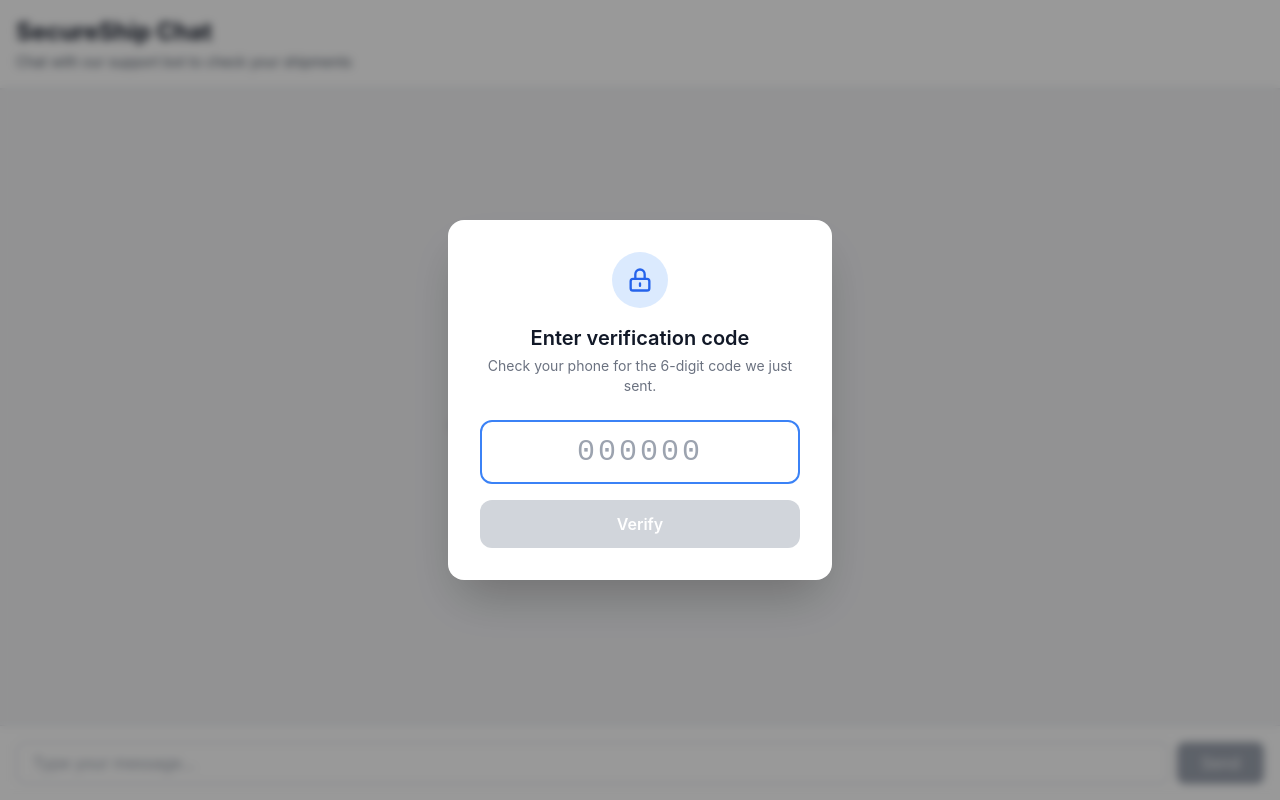
Test: ChatWindow › closes verification modal after max attempts lockout
Step 1. Type "999999" into the field with placeholder "000000" → [640, 452], box [480, 420, 800, 484]
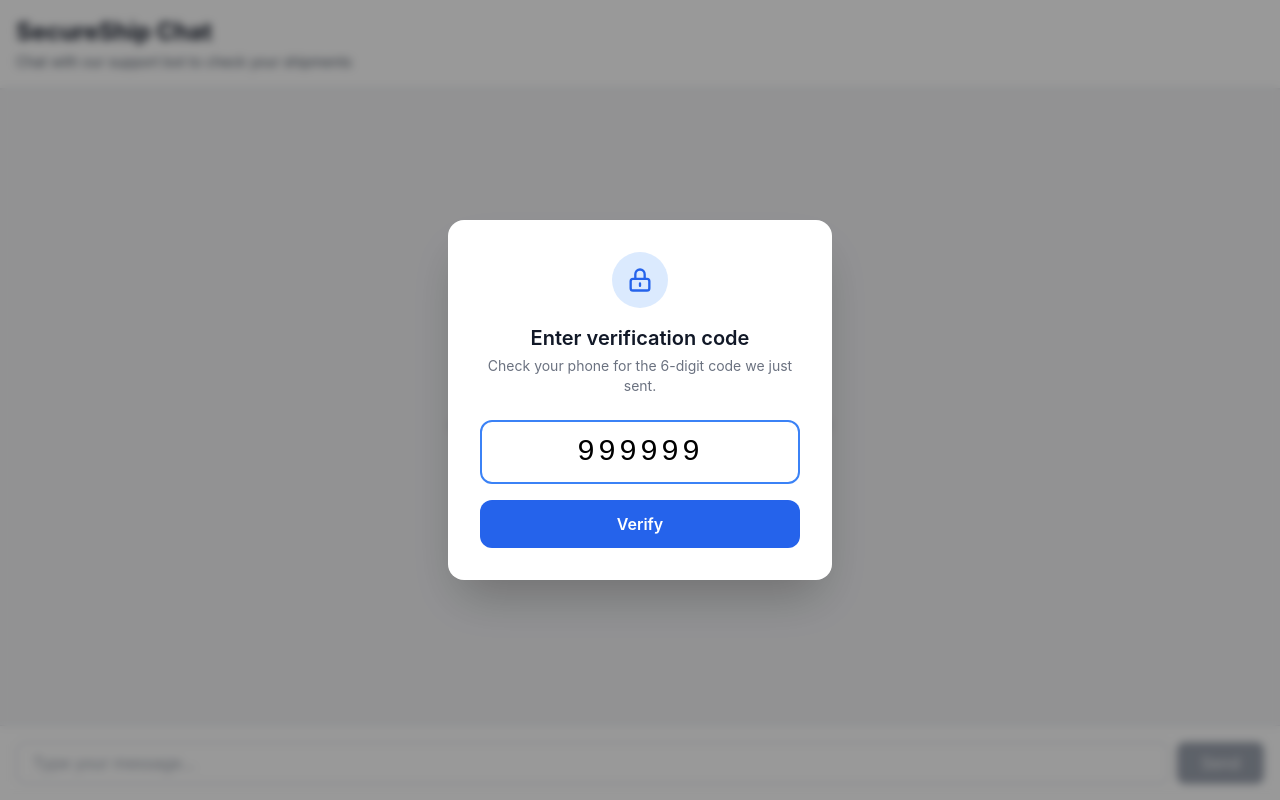
Step 2. Click the button "Verify" → [640, 524], box [480, 500, 800, 548]
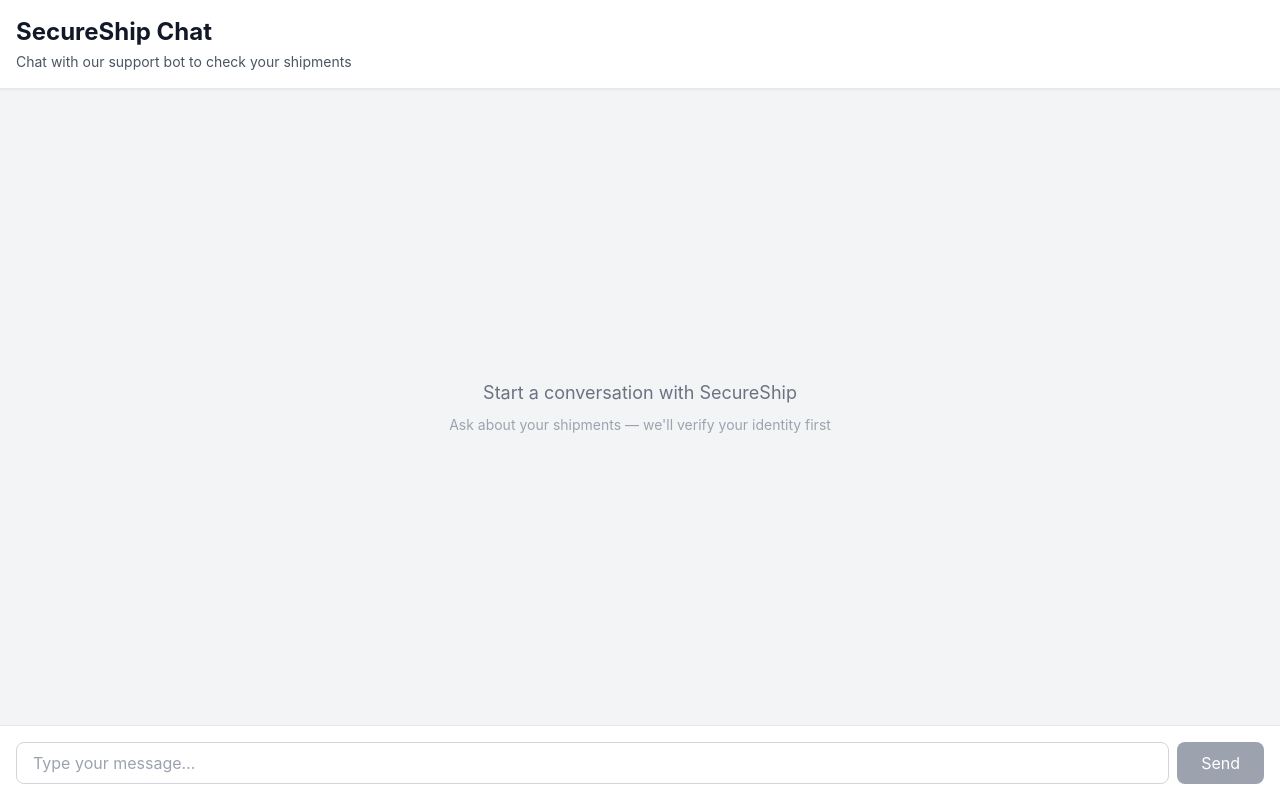
Expected: the field with placeholder "000000" is gone
